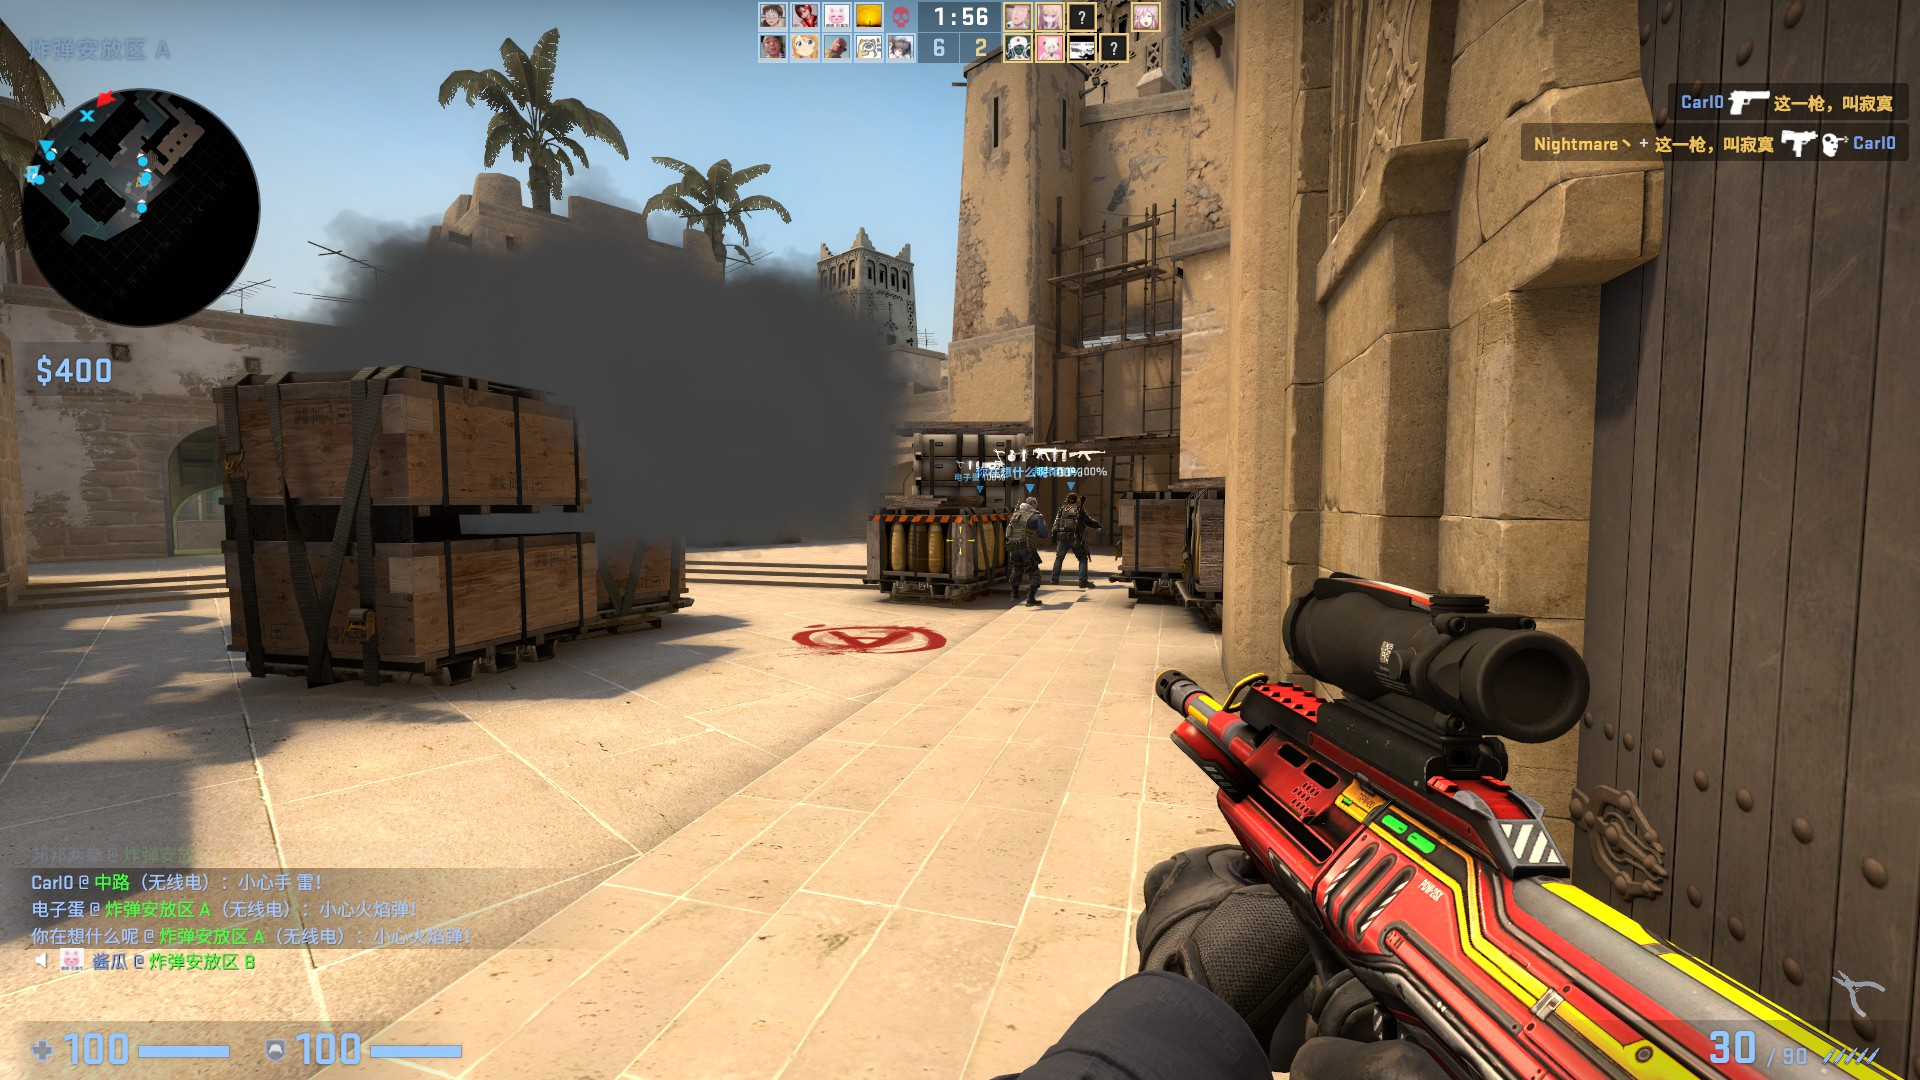head: (1024, 494, 1040, 509), (1065, 493, 1080, 505)
